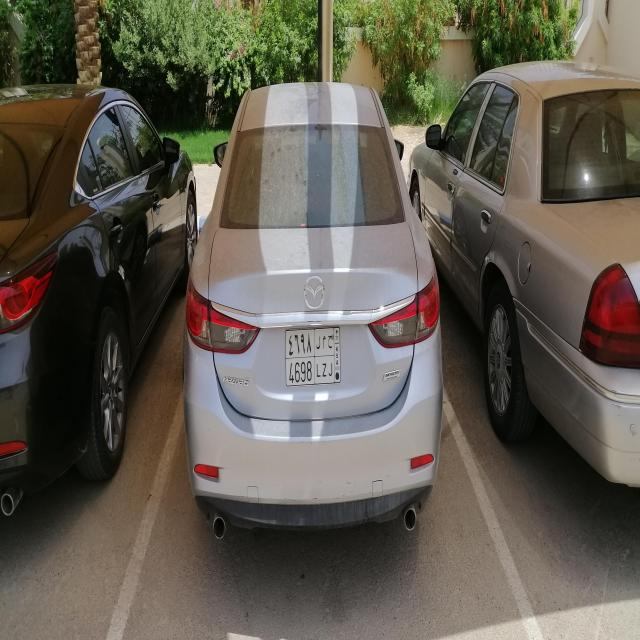license_plate: (285, 327, 340, 384)
